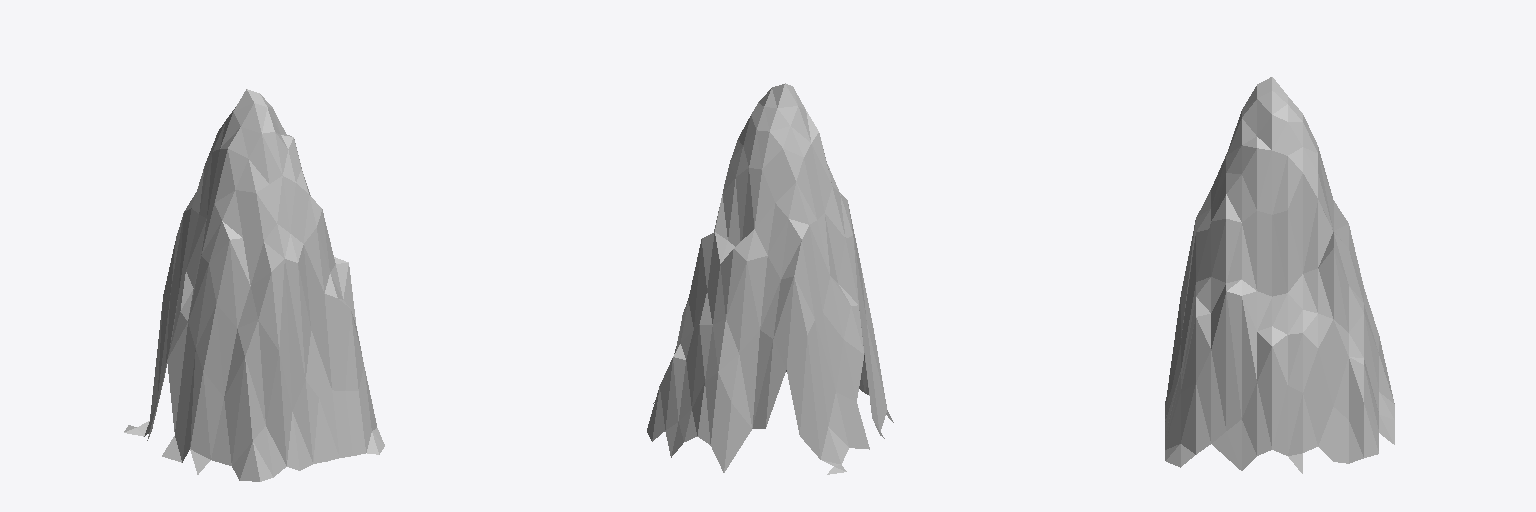
Rendered from tree_36.obj.
3 renders of one model, left to right at view 1: azimuth 30°, elevation 25°; view 2: azimuth 150°, elevation 25°; view 3: azimuth 270°, elevation 25°, orthographic.
Parts seen in each view (by area): view 1: tree_36.001; view 2: tree_36.001; view 3: tree_36.001.
Boxes of the visible parts, <box> form: tree_36.001: <box>124,89,384,481</box>; tree_36.001: <box>647,83,893,474</box>; tree_36.001: <box>1165,77,1394,473</box>.
Size of the model in its own units: 16 by 24.98 by 15.